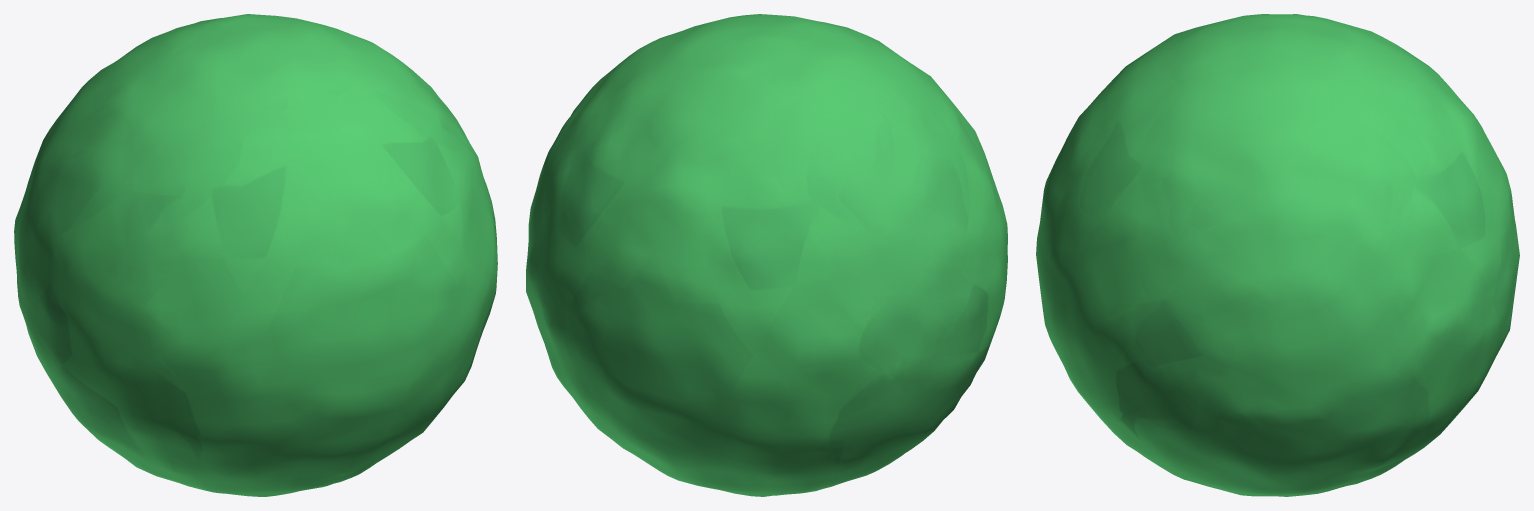
The model's file is stone_of_vitality_v1.glb.
The picture shows the model from 3 angles, left to right: view 1: azimuth 30°, elevation 25°; view 2: azimuth 150°, elevation 25°; view 3: azimuth 270°, elevation 25°; orthographic projection.
Size of the model in its own units: 1.9 by 1.91 by 1.9.
1 material, 1 textured.
